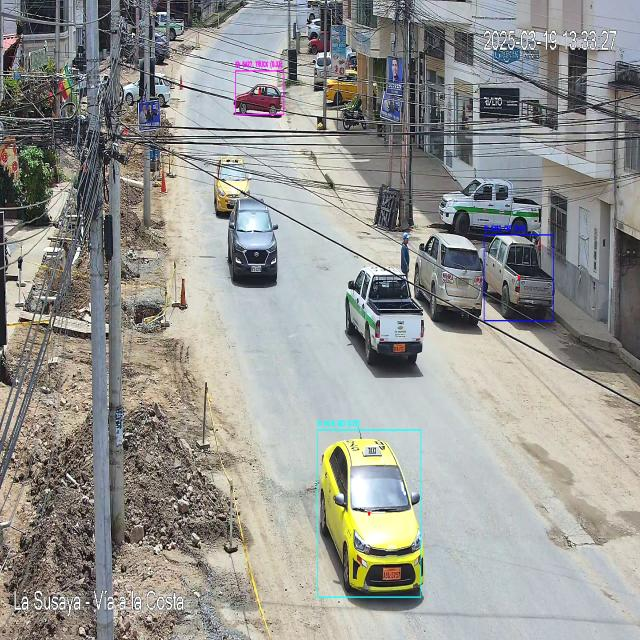CMT: (346, 265, 424, 366), (439, 178, 541, 236)
SED: (317, 436, 423, 606)
SUV: (416, 234, 484, 326)
